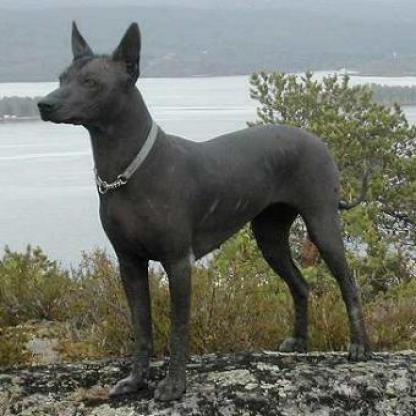Mexican_hairless: (34, 12, 372, 404)
